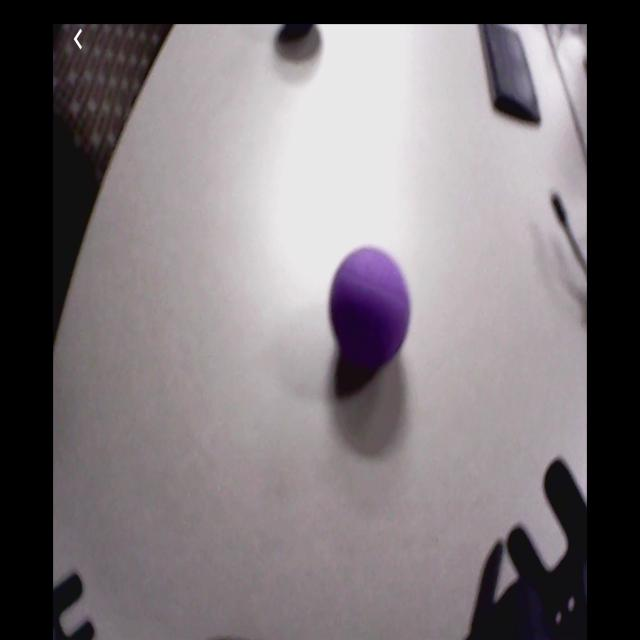ball: (331, 246, 411, 374)
